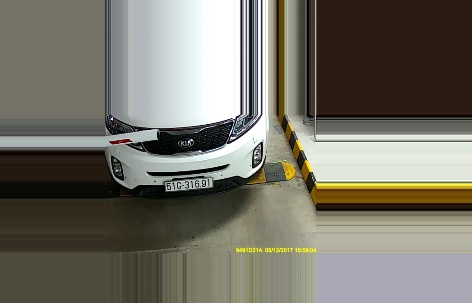plate: (162, 177, 216, 192)
